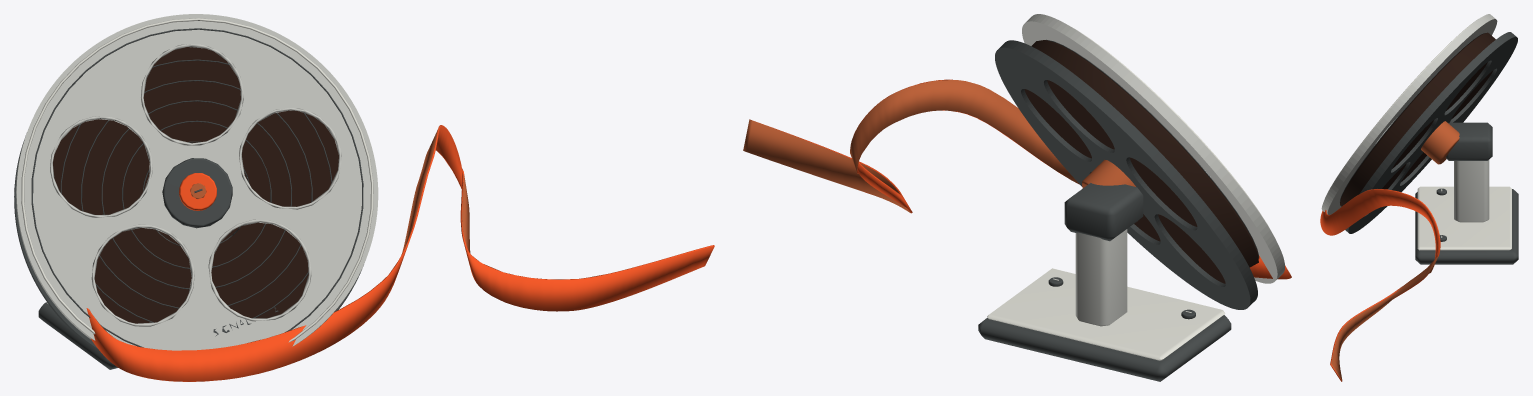
Rendered from spool.glb.
The picture shows the model from 3 angles, left to right: view 1: azimuth 30°, elevation 25°; view 2: azimuth 150°, elevation 25°; view 3: azimuth 270°, elevation 25°; orthographic projection. The views are drawn at different scales.
Parts seen in each view (by area): view 1: Reel, Bed; view 2: Bed, Reel; view 3: Bed, Reel.
Boxes of the visible parts, x1,y1,x2,y2 form: Reel: (14, 14, 378, 352); Bed: (38, 125, 714, 381); Bed: (743, 79, 1291, 381); Reel: (995, 14, 1284, 309); Bed: (1320, 121, 1518, 381); Reel: (1321, 14, 1517, 233).
Size of the model in its own units: 7.38 by 3.51 by 2.91.
